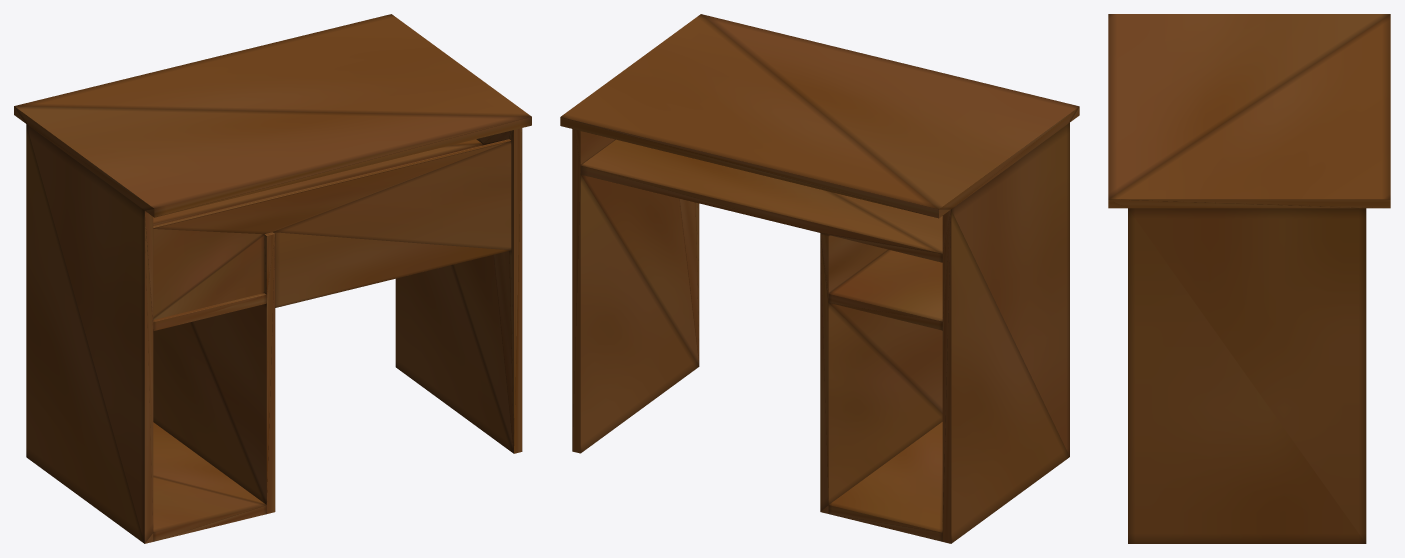
The picture shows the model from 3 angles, left to right: view 1: azimuth 30°, elevation 25°; view 2: azimuth 150°, elevation 25°; view 3: azimuth 270°, elevation 25°; orthographic projection.
Parts seen in each view (by area): view 1: world; view 2: world; view 3: world.
Part boxes in pixels (x1,y1,x2,y2): world: (14,14,531,543); world: (560,14,1079,543); world: (1108,14,1390,543).
Size of the model in its own units: 1.36 by 1.18 by 0.8748.
1 material, 1 textured.
